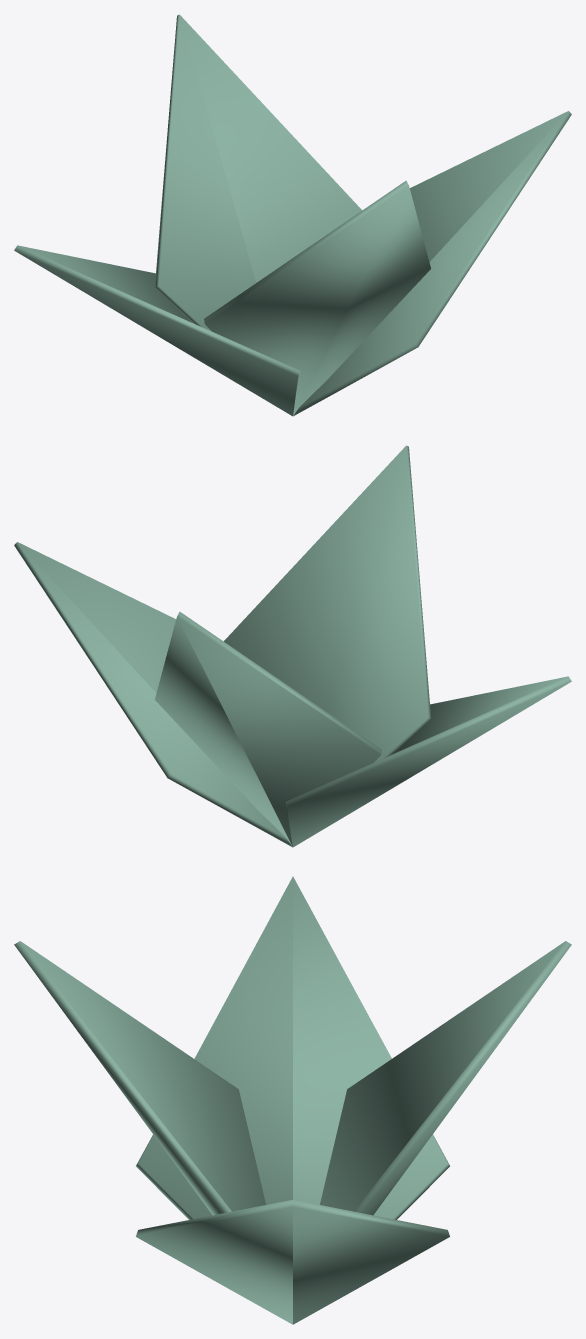
The model's file is Nature GrassBush 5.fbx.
3 renders of one model, top to bottom at view 1: azimuth 30°, elevation 25°; view 2: azimuth 150°, elevation 25°; view 3: azimuth 270°, elevation 25°, orthographic. The views are drawn at different scales.
Parts seen in each view (by area): view 1: Nature GrassBush 5; view 2: Nature GrassBush 5; view 3: Nature GrassBush 5.
Part boxes in pixels (x1=…): Nature GrassBush 5: x1=14, y1=14, x2=571, y2=416; Nature GrassBush 5: x1=14, y1=445, x2=571, y2=847; Nature GrassBush 5: x1=14, y1=876, x2=571, y2=1324.
Size of the model in its own units: 104 by 56.58 by 74.51.
